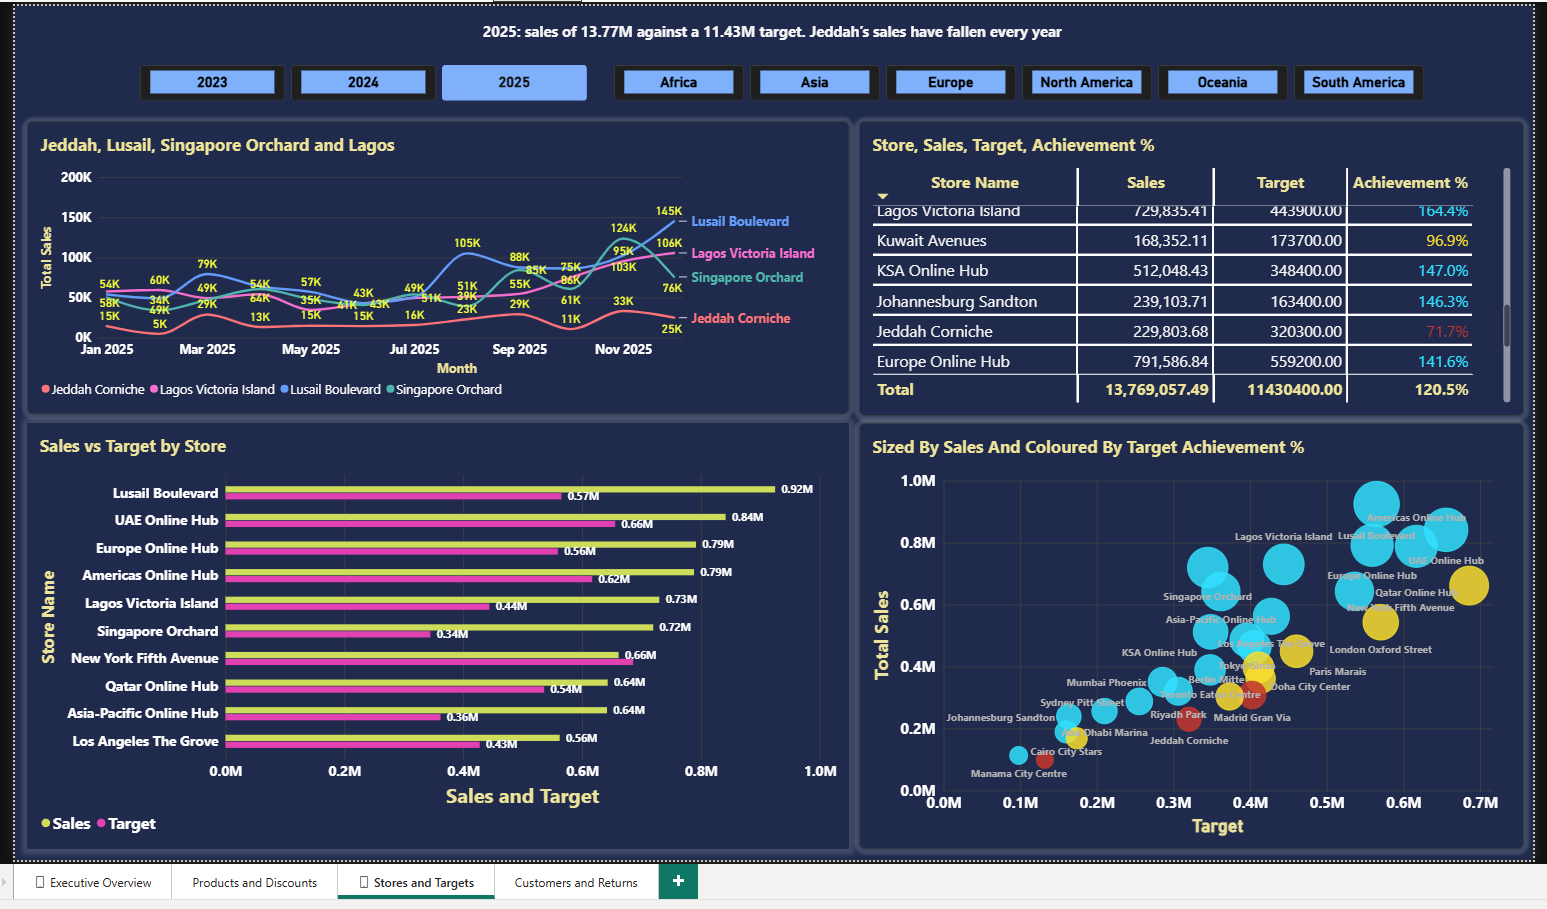

The dashboard page shown, as its layout file describes it:
{"tool":"powerbi","page":{"name":"Stores and Targets","canvas":[1920,1080],"ordinal":2},"visuals":[{"type":"textbox","box":[0,0,1919.6,52.4],"z":0},{"type":"tableEx","title":"Store, Sales, Target, Achievement % ","fields":{"Values":["Stores.StoreName","Sales.Total Sales","Targets.TARGET_SALE","Targets.ACHIEVEMENT %"]},"box":[1067.9,145.1,840.9,373.4],"z":1000},{"type":"scatterChart","title":"Sized By Sales And Coloured By Target Achievement %","fields":{"Category":["Stores.StoreName"],"Size":["Sales.Total Sales"],"X":["Targets.TARGET_SALE"],"Y":["Sales.Total Sales"]},"box":[1067.9,527.9,840.9,538.7],"z":2000},{"type":"clusteredBarChart","title":"Sales vs Target by Store","fields":{"Category":["Stores.StoreName"],"Y":["Sales.Total Sales","Targets.TARGET_SALE"]},"box":[14.8,527.9,1039.7,538.7],"z":3000},{"type":"lineChart","title":"Jeddah, Lusail, Singapore Orchard and Lagos","fields":{"Category":["DateTable.MONTHSTART"],"Series":["Stores.StoreName"],"Y":["Sales.Total Sales"]},"box":[15.6,145.9,1040.1,371.2],"z":4000},{"type":"advancedSlicerVisual","fields":{"Values":["Stores.StoreContinent"]},"box":[757.6,75.2,1029,45.7],"z":5000},{"type":"advancedSlicerVisual","fields":{"Values":["DateTable.Date.Variation.Date Hierarchy.Year"]},"box":[157.7,75.1,567.3,45.7],"z":6000}]}

Visuals, with their boxes on the page's 1920x1080 design canvas (x1, y1, x2, y2). These are canvas units, not pixel positions in the 1547x909 screenshot, which may show the page scaled, cropped or inside an application window:
textbox: locate(0, 0, 1920, 52)
"Store, Sales, Target, Achievement % " tableEx: locate(1068, 145, 1909, 518)
"Sized By Sales And Coloured By Target Achievement %" scatterChart: locate(1068, 528, 1909, 1067)
"Sales vs Target by Store" clusteredBarChart: locate(15, 528, 1054, 1067)
"Jeddah, Lusail, Singapore Orchard and Lagos" lineChart: locate(16, 146, 1056, 517)
advancedSlicerVisual - Stores.StoreContinent: locate(758, 75, 1787, 121)
advancedSlicerVisual - DateTable.Date.Variation.Date Hierarchy.Year: locate(158, 75, 725, 121)
